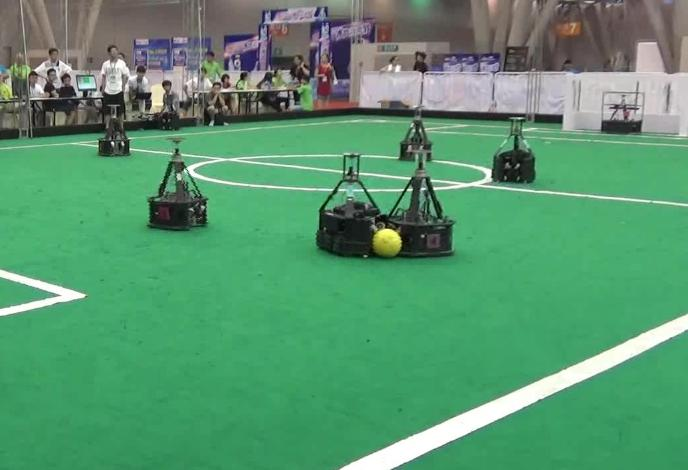robot: (379, 149, 464, 263), (311, 147, 387, 259), (142, 135, 215, 232), (490, 113, 539, 185), (95, 99, 133, 157)
